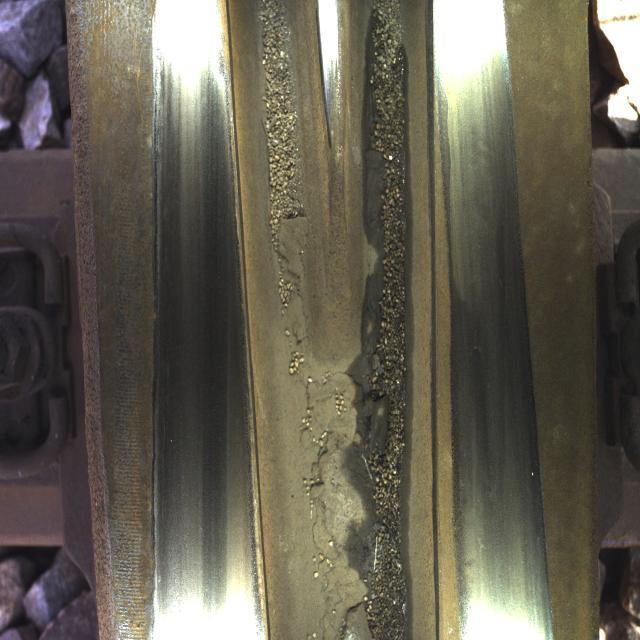break: (152, 64, 238, 586), (447, 116, 518, 565)
